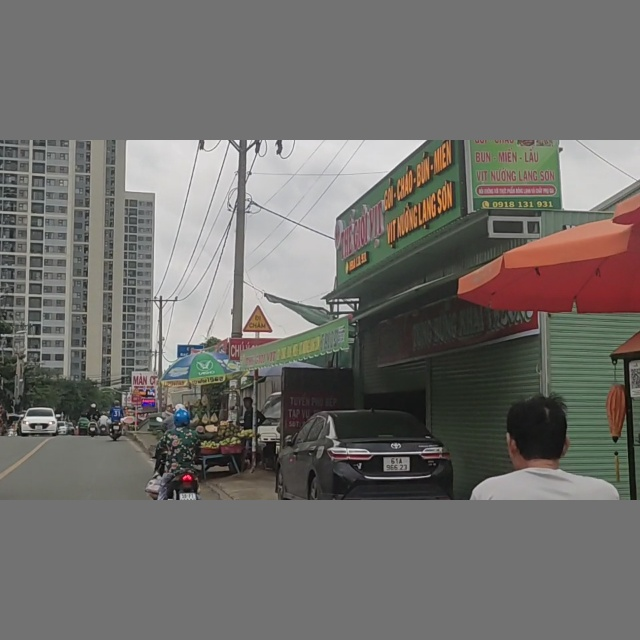W.245a: (243, 305, 272, 332)
